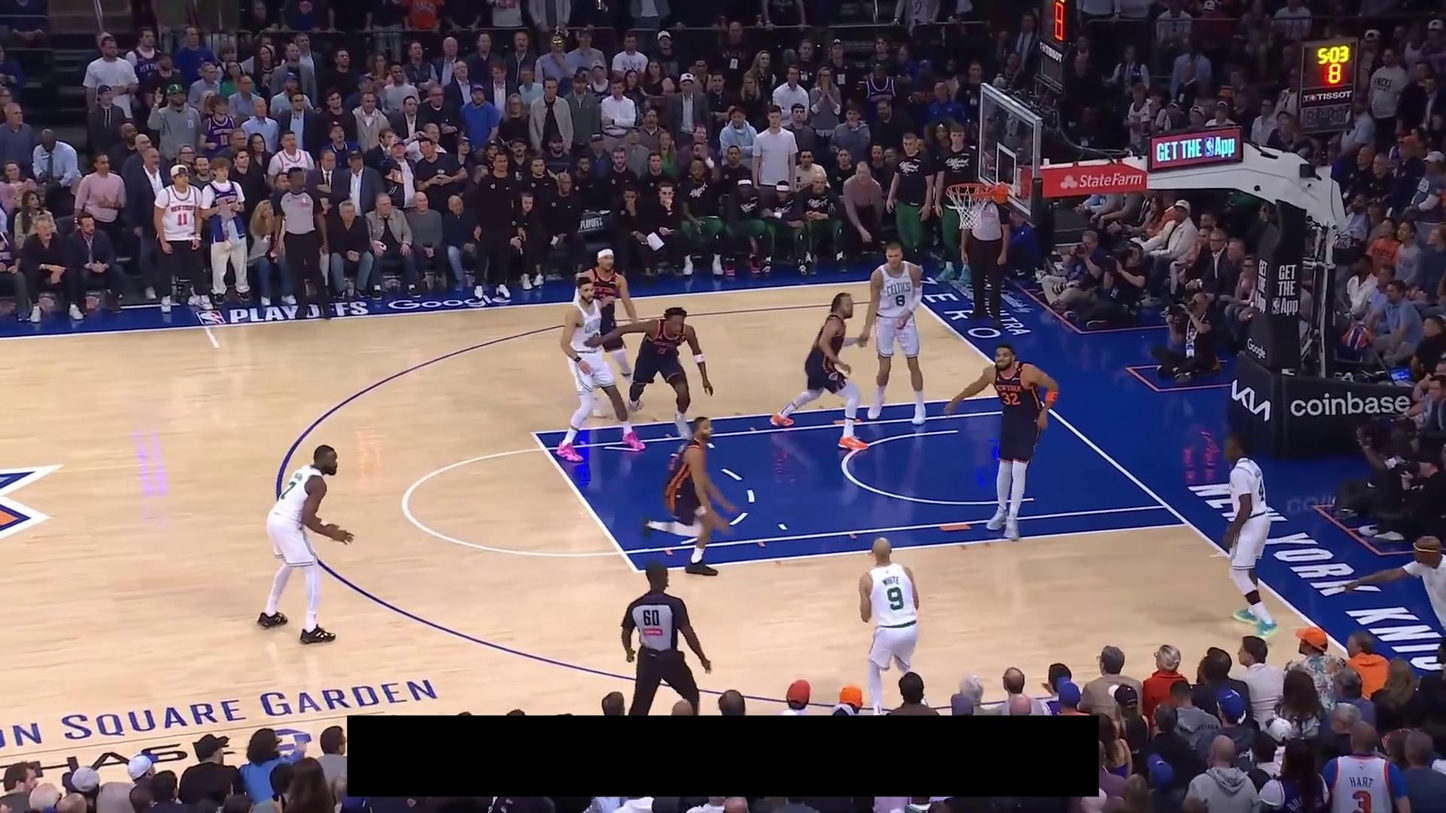number: (886, 586, 905, 611), (1000, 390, 1020, 407), (281, 480, 297, 501), (1256, 479, 1267, 502), (894, 293, 907, 308)
player: (942, 340, 1059, 542), (255, 443, 356, 645), (583, 306, 715, 451), (555, 276, 648, 464), (770, 291, 869, 452), (639, 415, 737, 577), (857, 238, 929, 428), (856, 534, 929, 716), (1221, 433, 1283, 646), (573, 247, 639, 419)
referee: (621, 559, 712, 715), (271, 166, 333, 321), (959, 177, 1011, 323)
rim: (946, 182, 993, 197)
